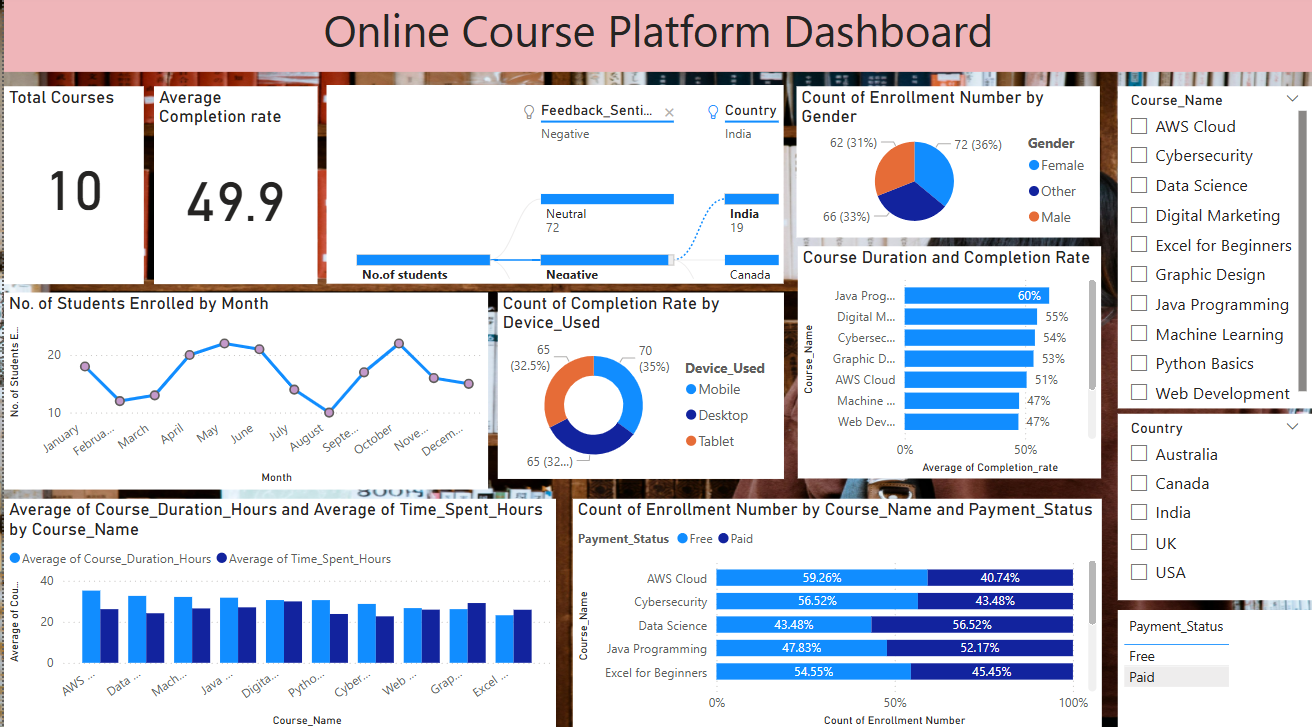

The dashboard page shown, as its layout file describes it:
{"tool":"powerbi","page":{"name":"Page 1","canvas":[1280,720],"ordinal":0},"visuals":[{"type":"textbox","box":[0,0,1280.3,75.5],"z":0},{"type":"slicer","fields":{"Values":["Sheet1.Course_Name"]},"box":[1090,88.8,190,315],"z":1000},{"type":"slicer","fields":{"Values":["Sheet1.Country"]},"box":[1090,410,190,182.5],"z":2000},{"type":"card","title":"Total Courses","fields":{"Values":["Count(Sheet1.Course_Name)"]},"box":[0,89.3,137,193.2],"z":3000},{"type":"card","title":"Average Completion rate ","fields":{"Values":["Avg(Sheet1.Completion Rate)"]},"box":[146.7,89.3,160.2,193.2],"z":4000},{"type":"barChart","title":"Course Duration and Completion Rate","fields":{"Category":["Sheet1.Course_Name"],"Y":["Avg(Sheet1.Completion_rate)"]},"box":[776.5,245.8,297.1,227.4],"z":5000},{"type":"tableEx","fields":{"Values":["Sheet1.Payment_Status"]},"box":[1090,601.2,190,118.8],"z":6000},{"type":"pieChart","fields":{"Category":["Sheet1.Gender"],"Y":["CountNonNull(Sheet1.Enrollment Number)"]},"box":[775.3,89.3,297.1,148],"z":7000},{"type":"clusteredColumnChart","fields":{"Y":["Avg(Sheet1.Course_Duration_Hours)","Avg(Sheet1.Time_Spent_Hours)"],"Category":["Sheet1.Course_Name"]},"box":[0,492.5,540,227.5],"z":8000},{"type":"lineChart","fields":{"Category":["Sheet1.Enrollment_Date.Variation.Date Hierarchy.Month"],"Y":["CountNonNull(Sheet1.Enrollment Number)"]},"box":[0,291.2,473.8,192.5],"z":9000},{"type":"donutChart","fields":{"Category":["Sheet1.Device_Used"],"Y":["CountNonNull(Sheet1.Completion Rate)"]},"box":[482.5,291.2,280,182.5],"z":10000},{"type":"hundredPercentStackedBarChart","fields":{"Category":["Sheet1.Course_Name"],"Y":["CountNonNull(Sheet1.Enrollment Number)"],"Series":["Sheet1.Payment_Status"]},"box":[556.2,492.5,517.5,227.5],"z":11000},{"type":"decompositionTreeVisual","fields":{"ExplainBy":["Sheet1.Feedback_Sentiment","Sheet1.Country","Sheet1.Course_Name"],"Analyze":["CountNonNull(Sheet1.Enrollment Number)"]},"box":[315.7,88.6,447.1,194.3],"z":12000}]}

Visuals, with their boxes in screenshot pixels (x1, y1, x2, y2), scaled from the page's 1280x720 canvas onto the 1312x727 screenshot:
textbox: <box>0,0,1311,76</box>
slicer - Sheet1.Course_Name: <box>1117,90,1311,408</box>
slicer - Sheet1.Country: <box>1117,414,1311,598</box>
"Total Courses" card: <box>0,90,140,285</box>
"Average Completion rate " card: <box>150,90,315,285</box>
"Course Duration and Completion Rate" barChart: <box>796,248,1100,478</box>
tableEx - Sheet1.Payment_Status: <box>1117,607,1311,726</box>
pieChart - Sheet1.Gender x CountNonNull(Sheet1.Enrollment Number): <box>795,90,1099,240</box>
clusteredColumnChart - Avg(Sheet1.Course_Duration_Hours) x Avg(Sheet1.Time_Spent_Hours): <box>0,497,554,726</box>
lineChart - Sheet1.Enrollment_Date.Variation.Date Hierarchy.Month x CountNonNull(Sheet1.Enrollment Number): <box>0,294,486,488</box>
donutChart - Sheet1.Device_Used x CountNonNull(Sheet1.Completion Rate): <box>495,294,782,478</box>
hundredPercentStackedBarChart - Sheet1.Course_Name x CountNonNull(Sheet1.Enrollment Number): <box>570,497,1101,726</box>
decompositionTreeVisual - Sheet1.Feedback_Sentiment x Sheet1.Country: <box>324,89,782,286</box>
